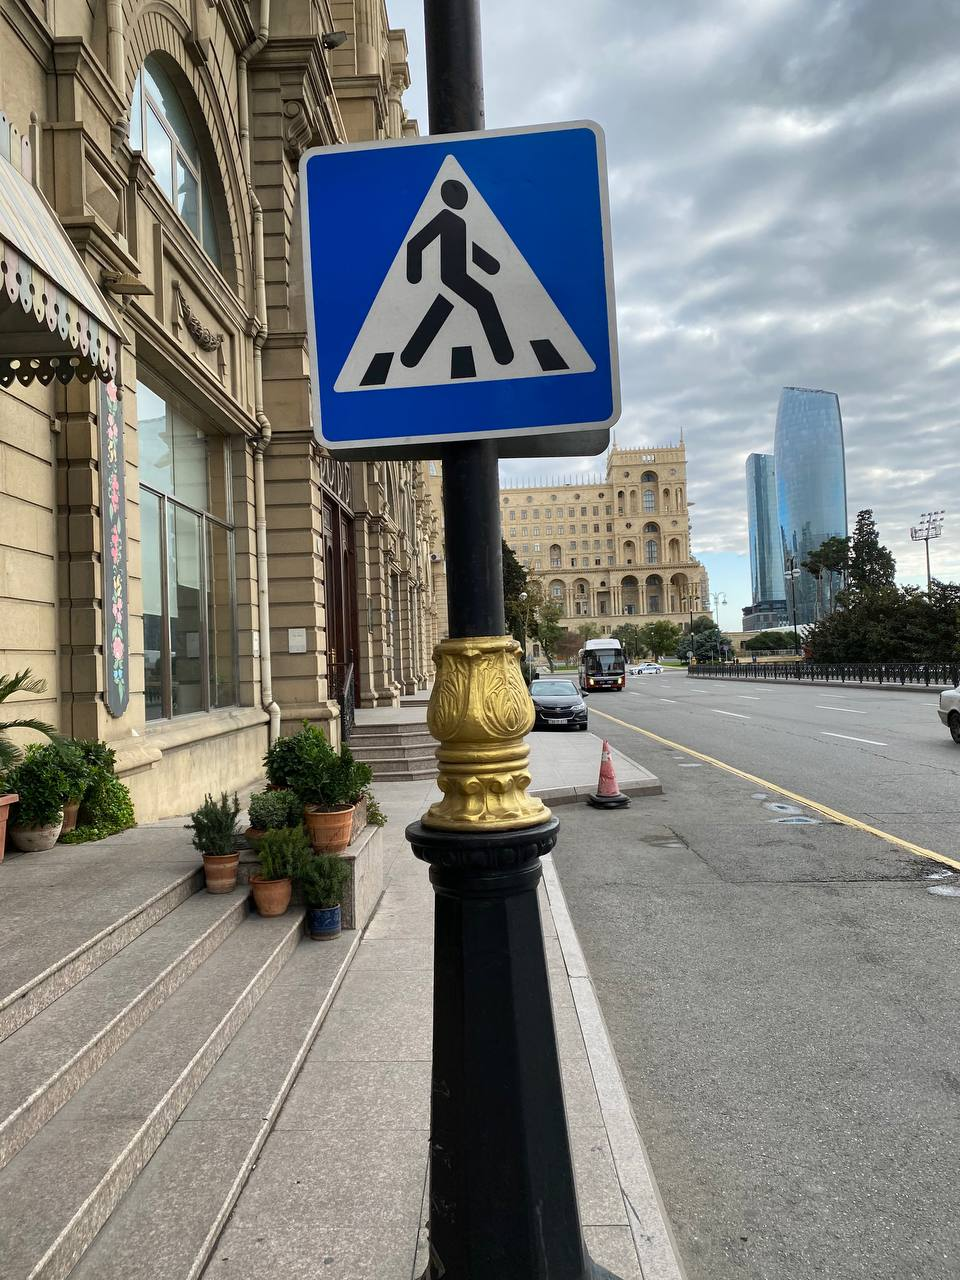Pedestrian Crossing: (306, 118, 608, 447)
